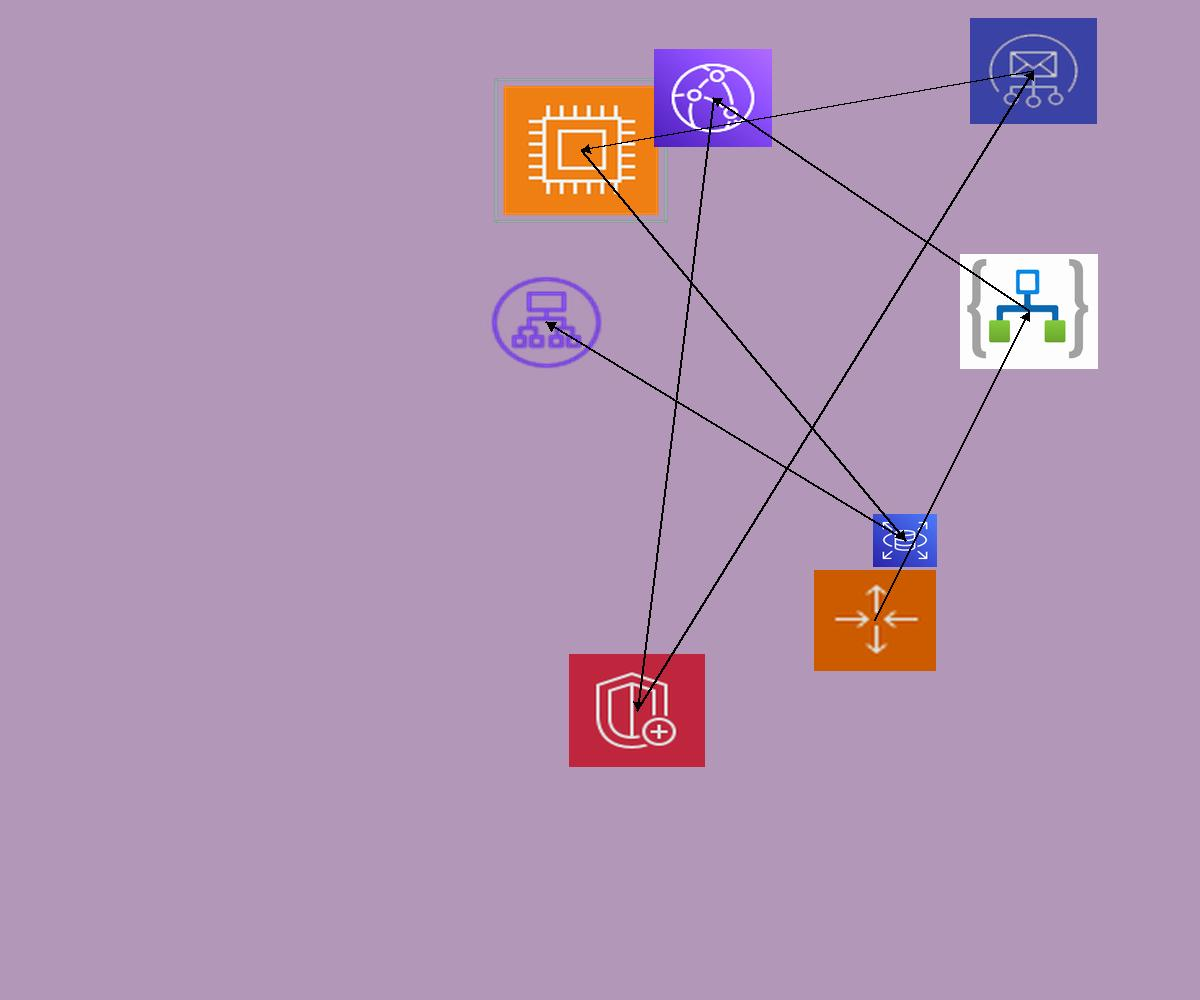AWS-Category_Compute: (494, 78, 668, 223)
AWS-CloudFront: (654, 49, 772, 147)
AWS-RDS: (873, 514, 937, 567)
AWS-Res_Elastic-Load-Balancing_Application-Load-Balancer: (487, 273, 606, 372)
AWS-Scaling-group: (814, 570, 936, 671)
AWS-Shield: (569, 654, 705, 767)
AWS-Simple-Email-Service: (970, 18, 1097, 124)
Azure_integration-204-Logic-Apps: (960, 254, 1098, 369)
